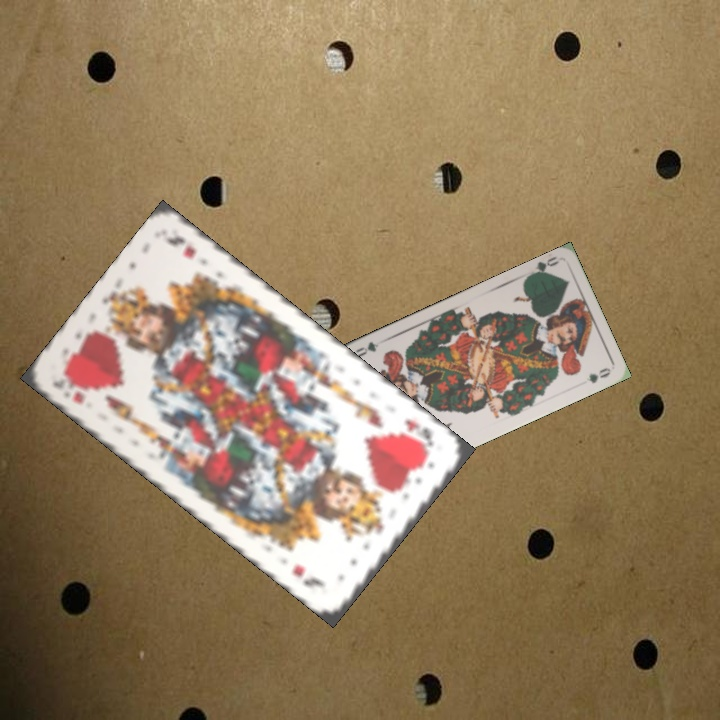GO: (524, 252, 562, 279)
HK: (48, 368, 90, 407), (397, 415, 436, 456)
